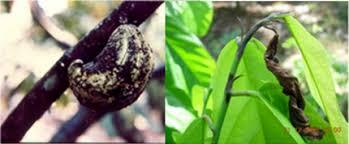Helopeltis-Withered Sprout: (262, 30, 326, 141)
